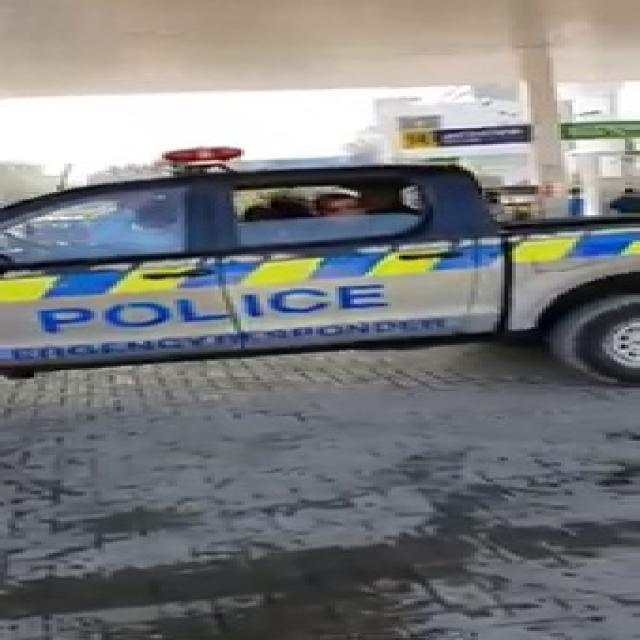police: (0, 158, 640, 377)
